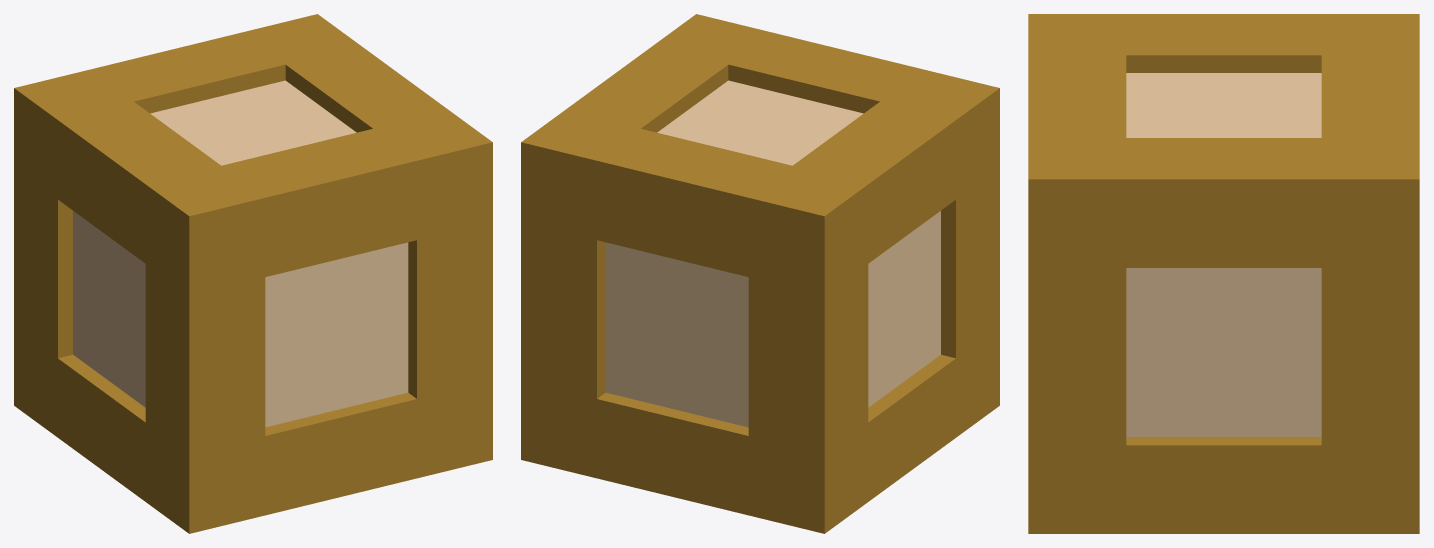
Rendered from PickupBoost.fbx.
3 renders of one model, left to right at view 1: azimuth 30°, elevation 25°; view 2: azimuth 150°, elevation 25°; view 3: azimuth 270°, elevation 25°, orthographic. The views are drawn at different scales.
Parts seen in each view (by area): view 1: Cube; view 2: Cube; view 3: Cube.
Part boxes in pixels (<box>): Cube: <box>14,14,492,533</box>; Cube: <box>521,14,999,533</box>; Cube: <box>1028,14,1419,533</box>.
Bounding box in the file's own units: 2 × 2 × 2.
